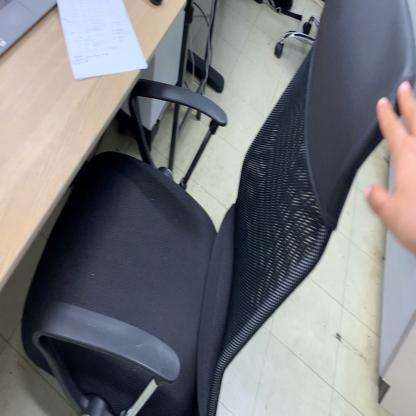chair: (22, 0, 416, 416)
